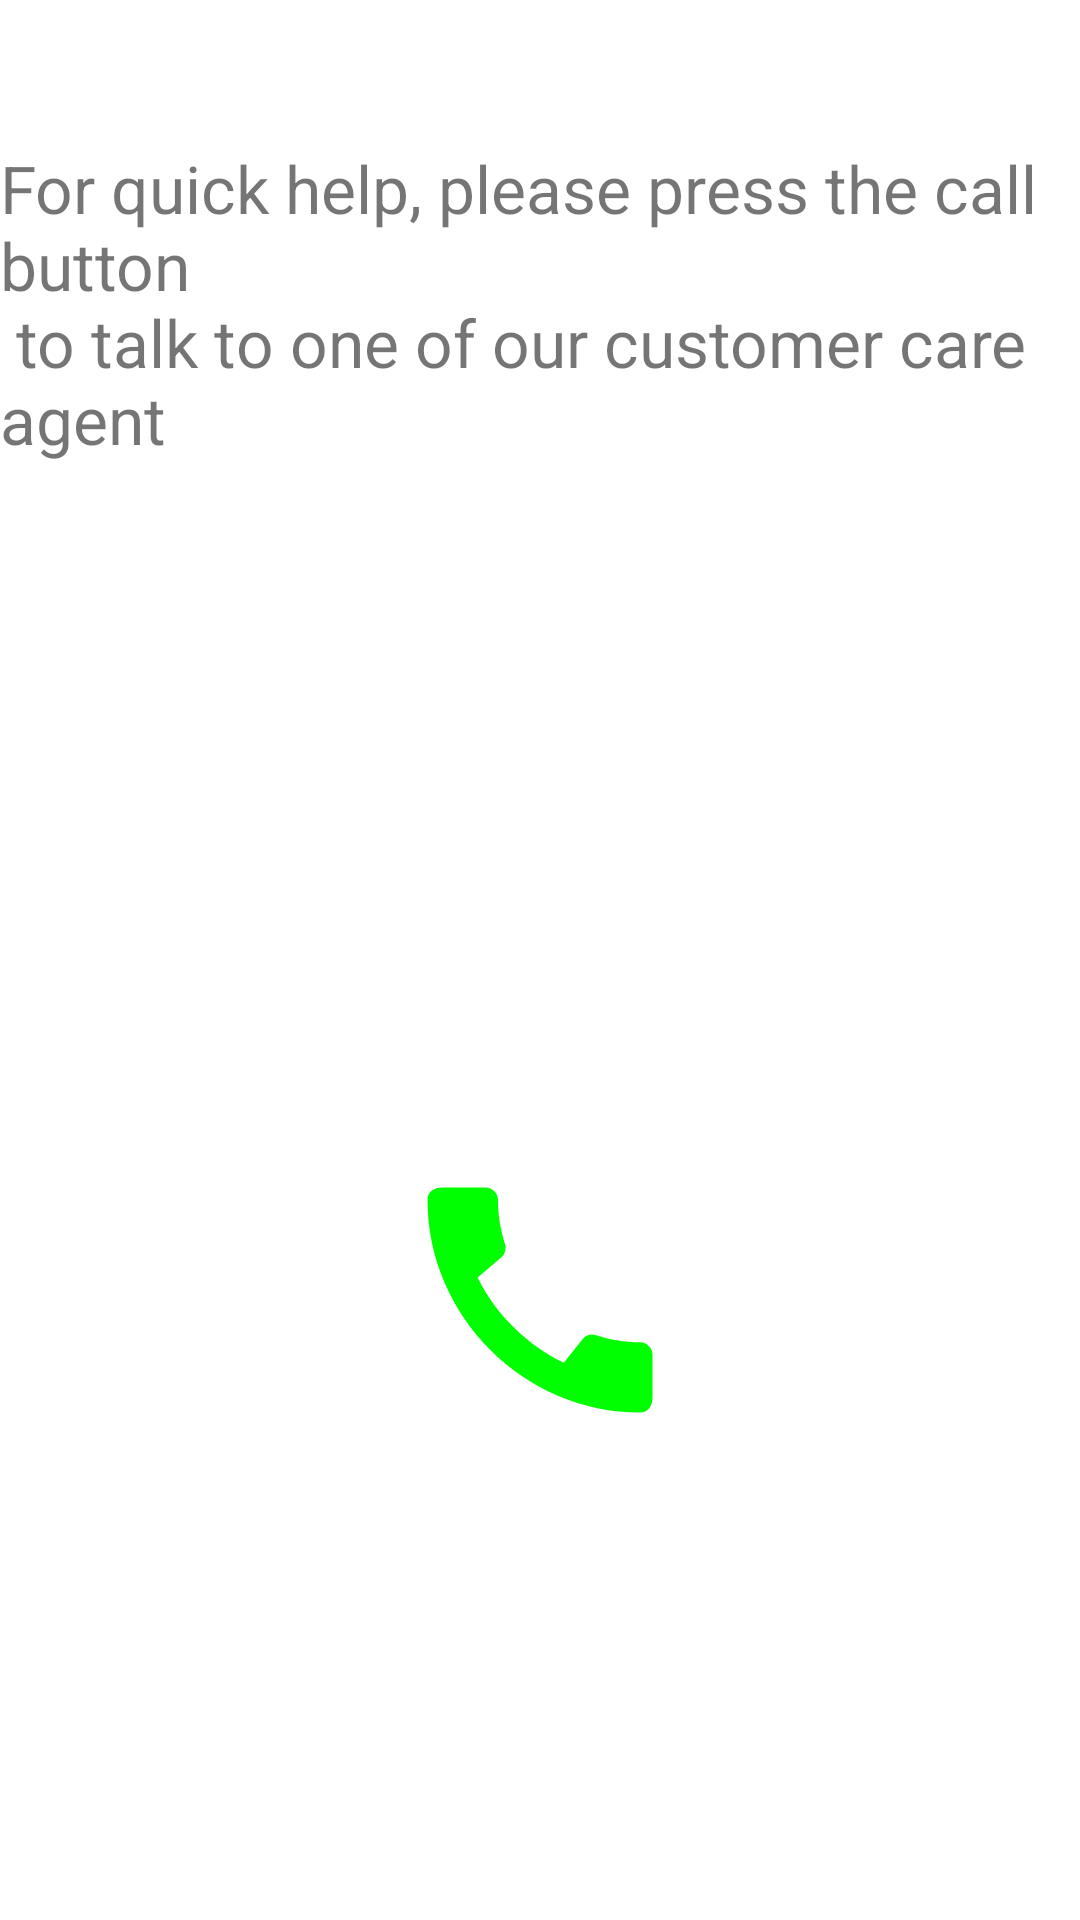

Point at icon controls on the screen. Image size 1080×1920, points as (x=x, y=y).
call icon: (x=540, y=1300)
